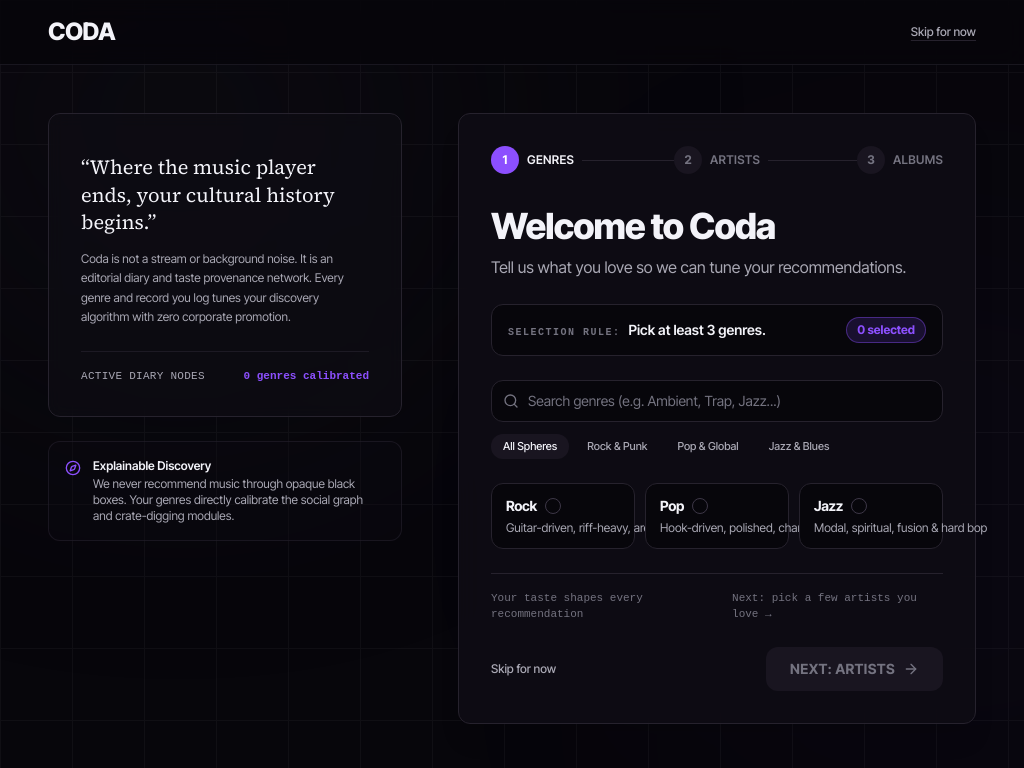
Test case: OnboardingWizard › defaults the artists step to genre-based suggestions before any query is typed
Click the text "Rock" at (521, 506), box 506,496 -> 537,516
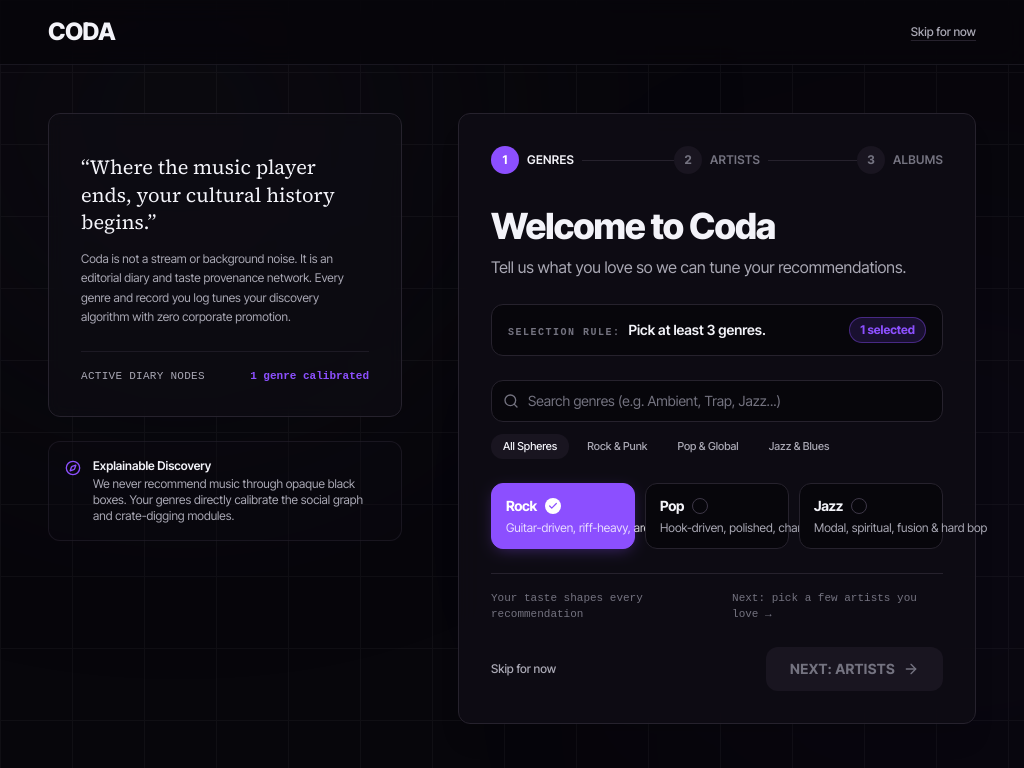
Click the text "Pop" at (672, 506), box 660,496 -> 684,516
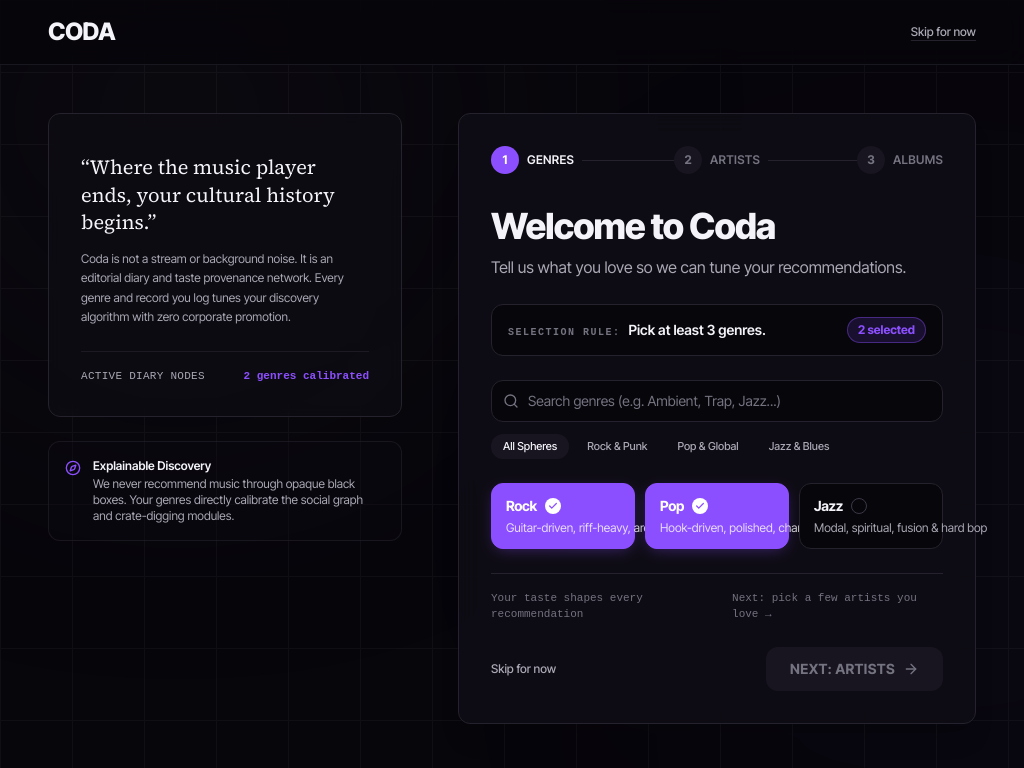
Click the text "Jazz" at (828, 506), box 814,496 -> 843,516
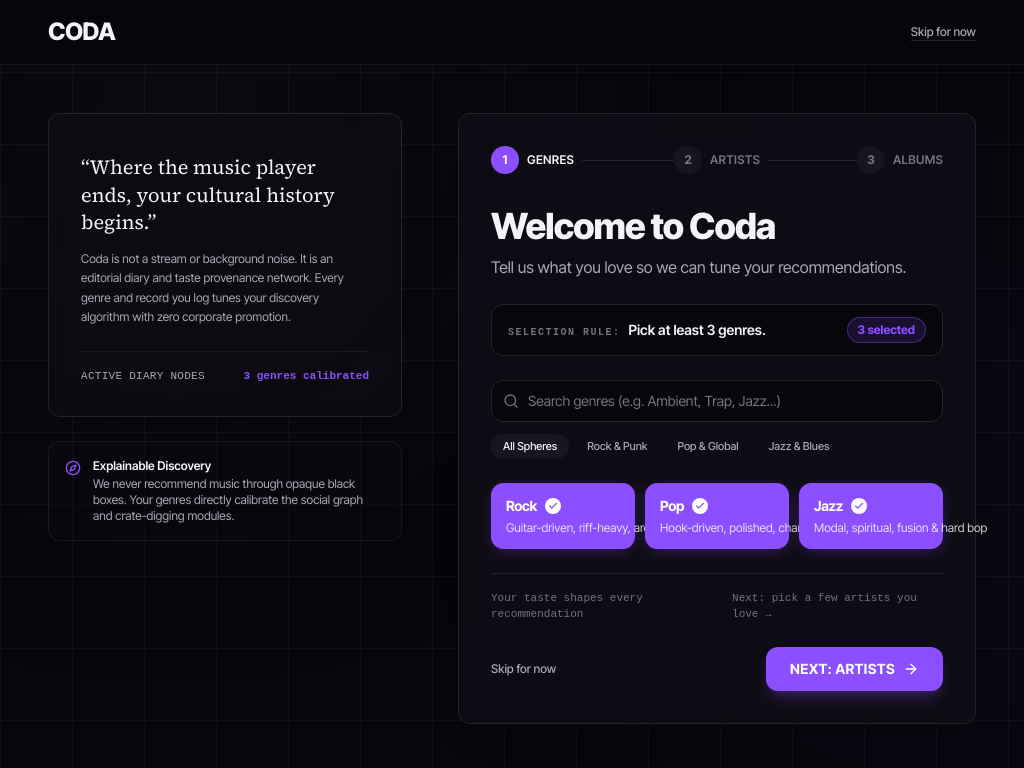
Click the button "Next: Artists" at (855, 668), box 766,646 -> 943,690
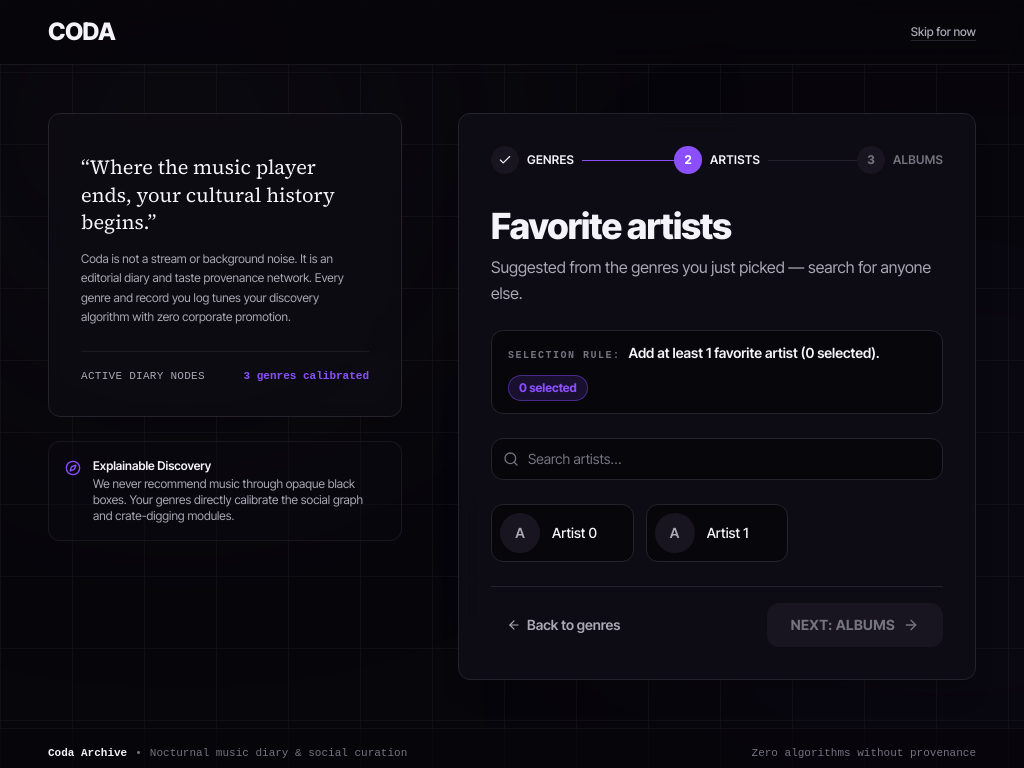
Now the search field with placeholder "Search artists…" is shown, box 491,438 -> 943,480
Now the text "Artist 0" is shown, box 552,523 -> 597,543
Now the text "Artist 1" is shown, box 707,523 -> 748,543
